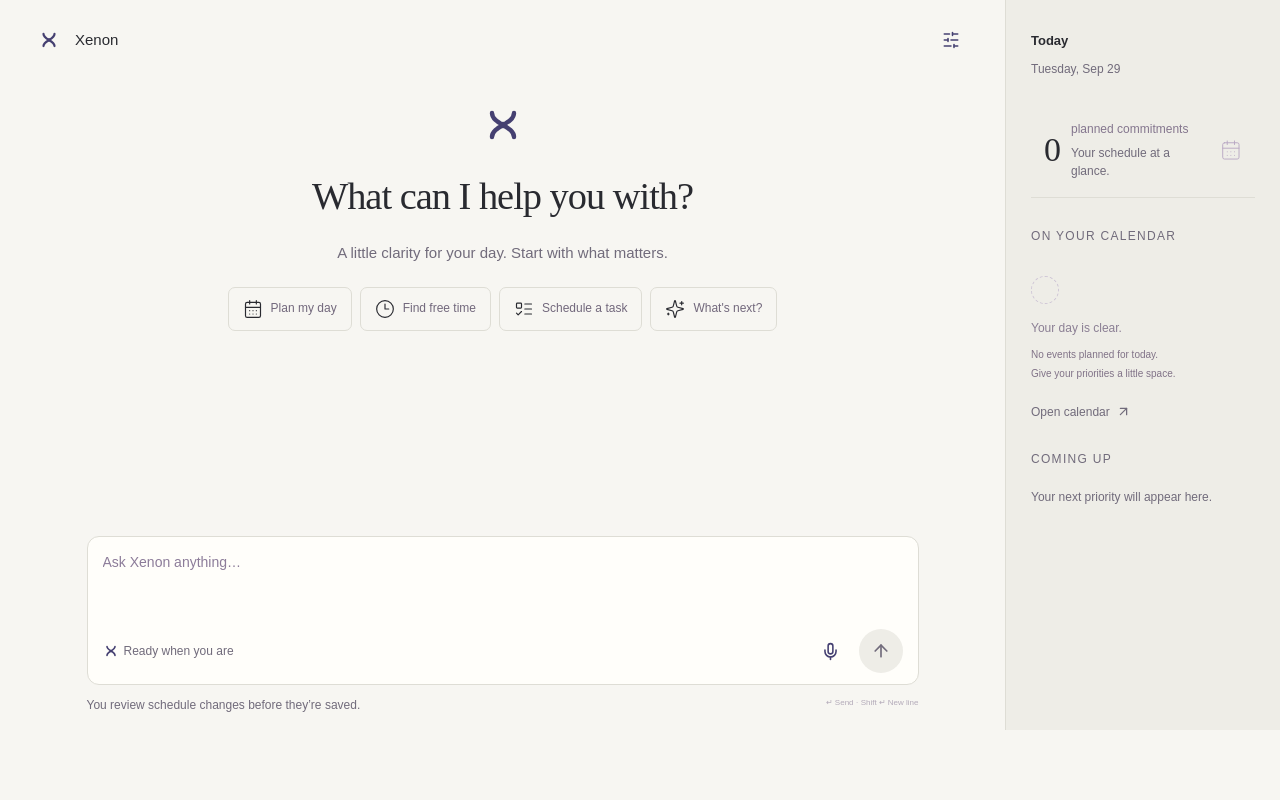
Scenario: blocks processing submissions and restores failed requests
This screenshot has width=1280, height=800.
Check: the heading "What can I help you with?" is shown, box [312, 175, 693, 217]
Type "Plan tomorrow" into the text box named "Message your assistant" at point(502, 580), box [102, 551, 902, 609]
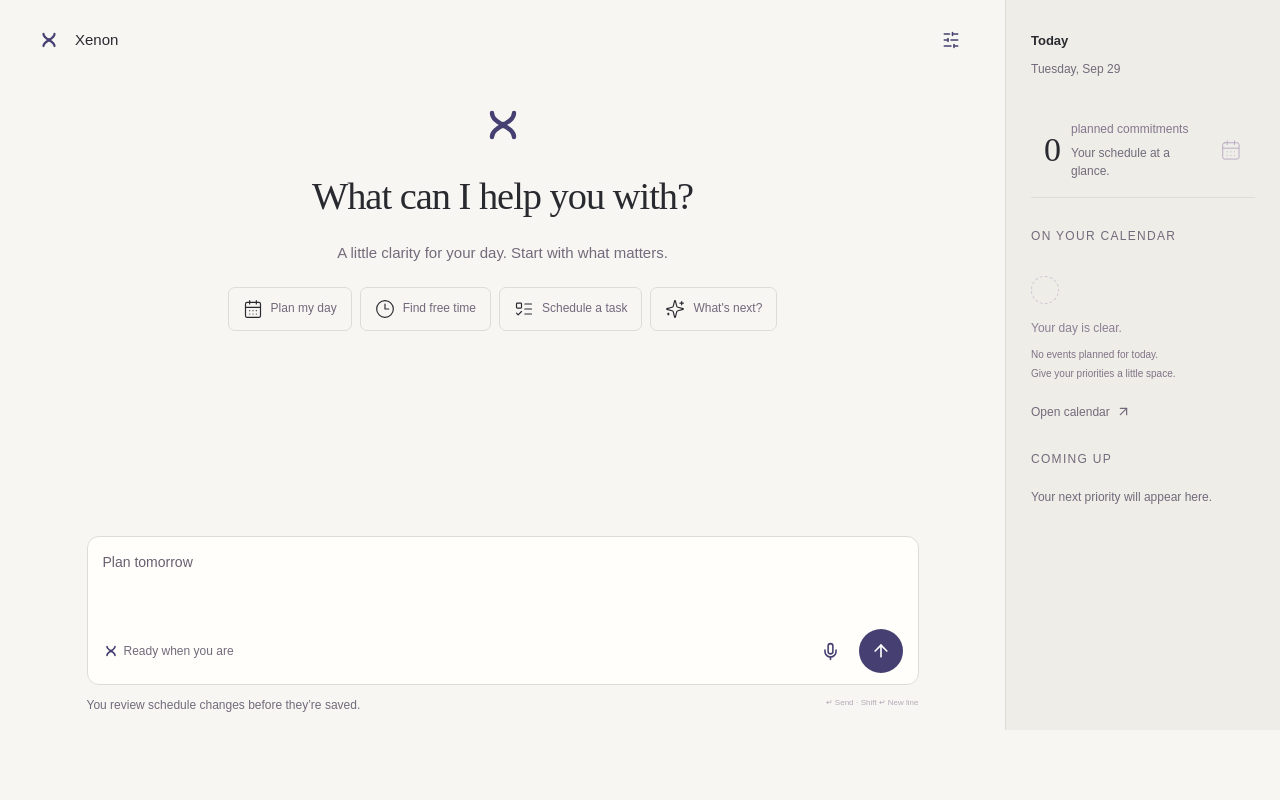
Click the button named "Start voice input" at point(830, 651), box [808, 629, 852, 673]
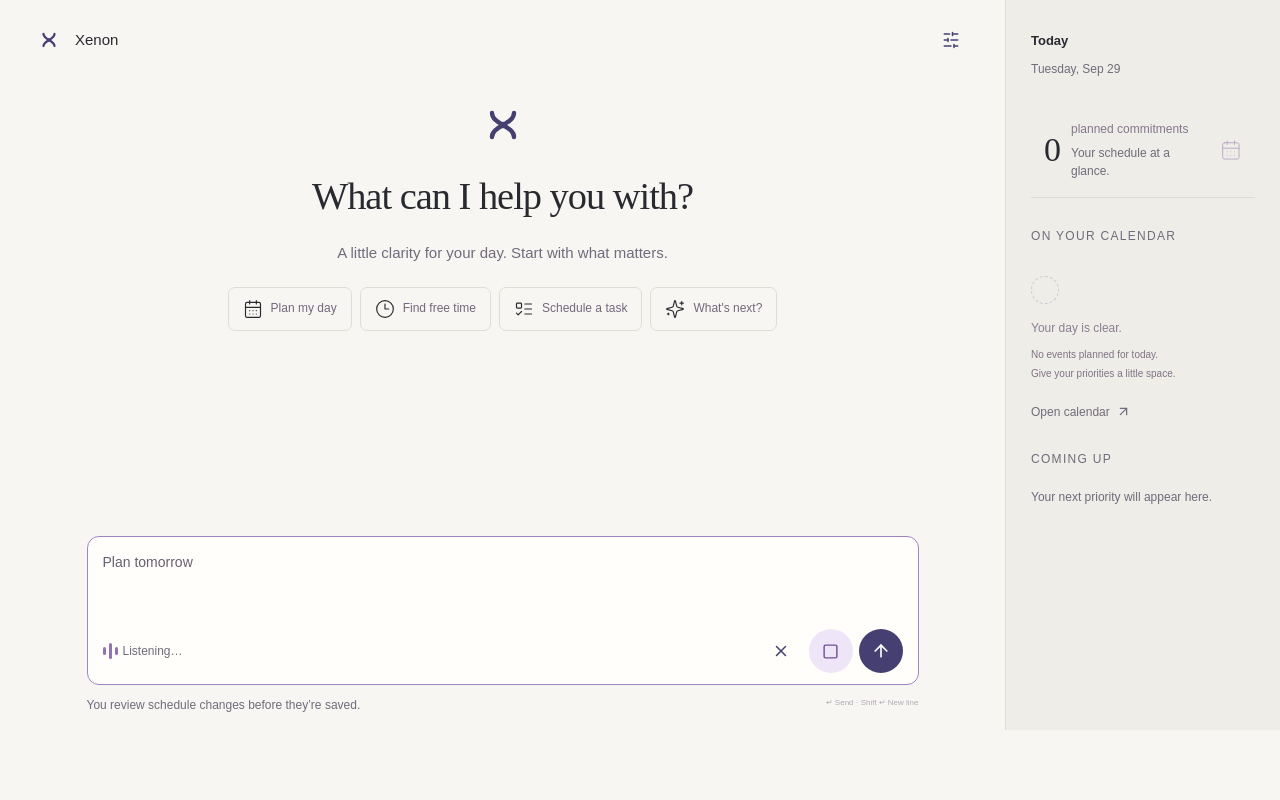
Click the button named "Stop voice input" at point(830, 651), box [808, 629, 852, 673]
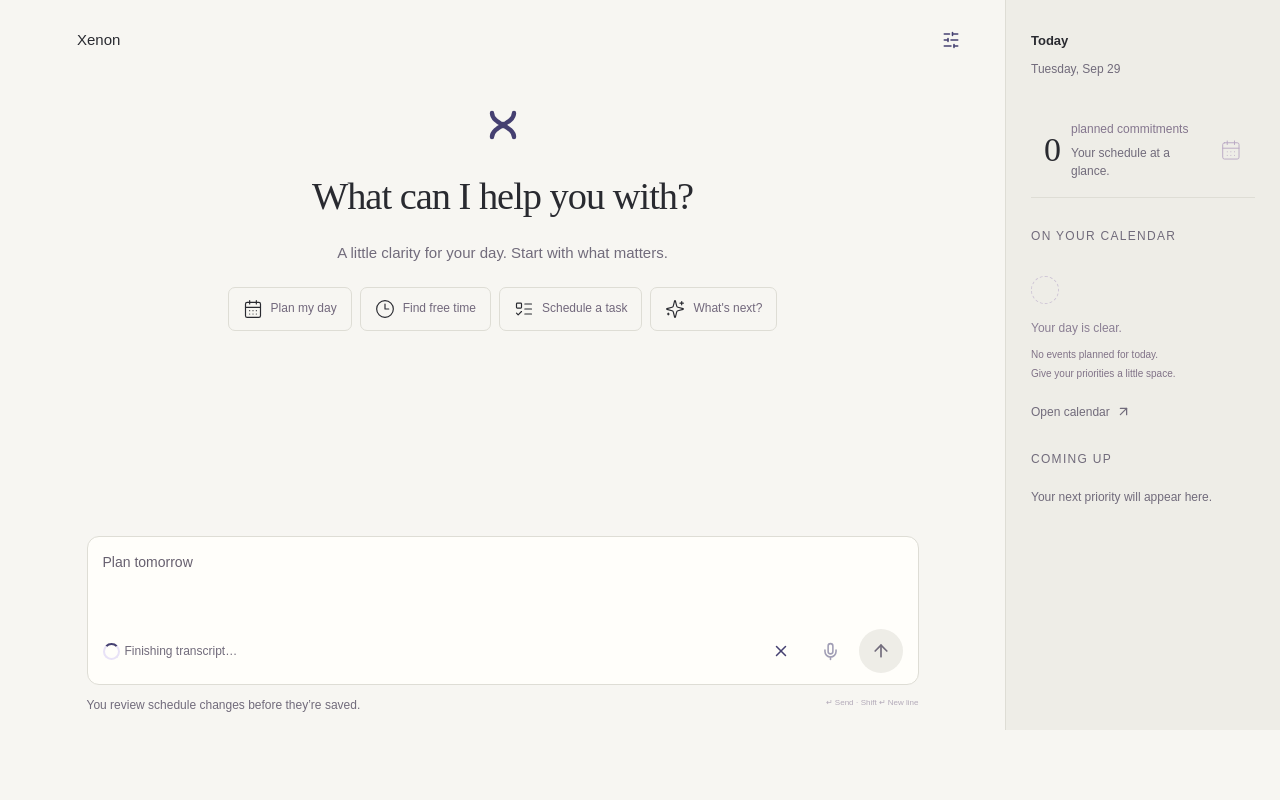
Check: the button named "Send message" is disabled, box [858, 629, 902, 673]
Submit the form, box [86, 536, 918, 685]
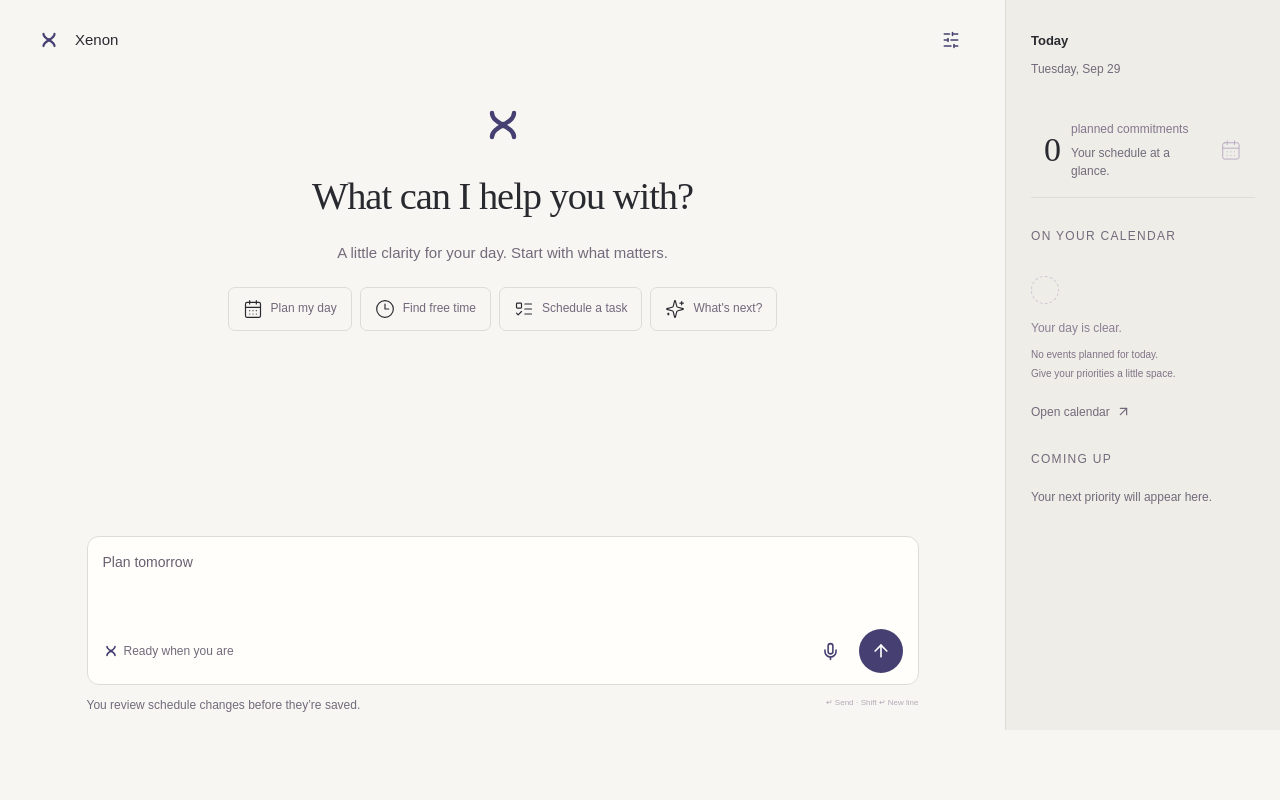
Submit the form, box [86, 536, 918, 685]
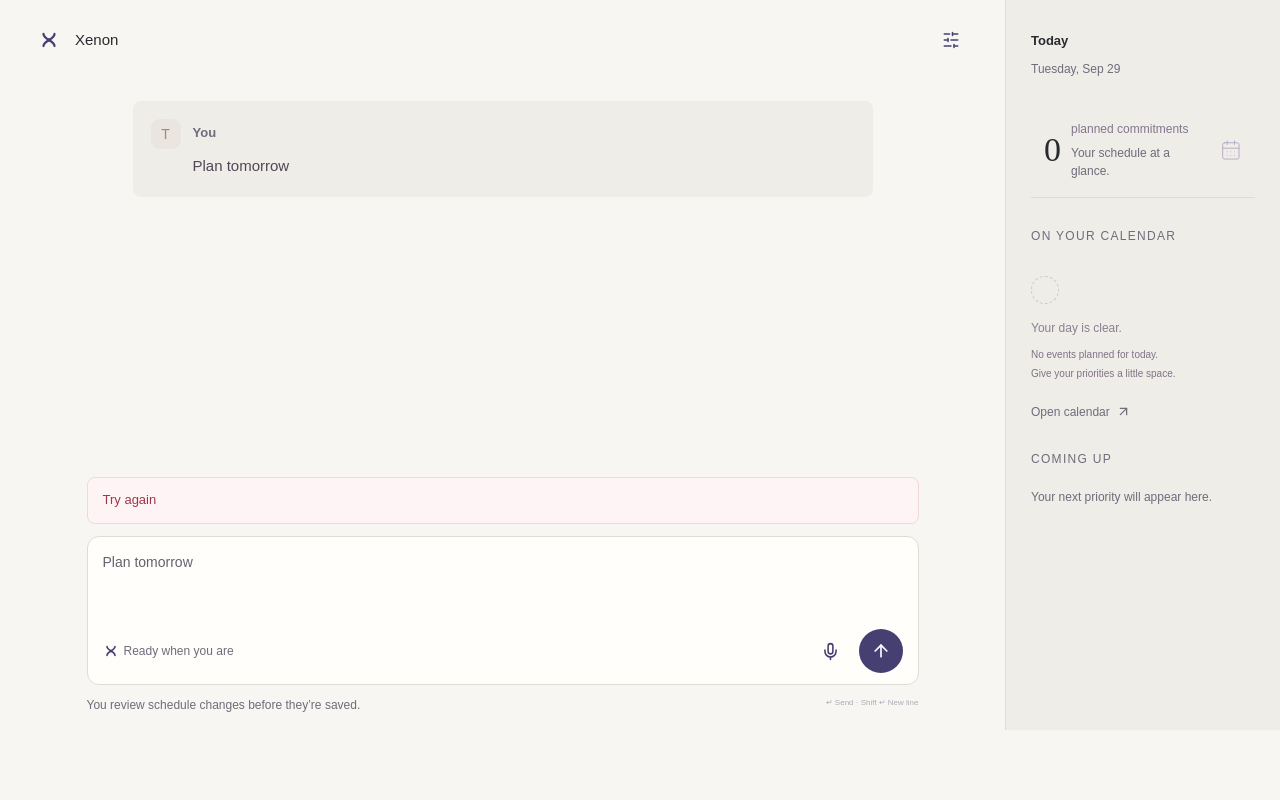
Check: the text "Try again" is shown, box [86, 477, 918, 524]
